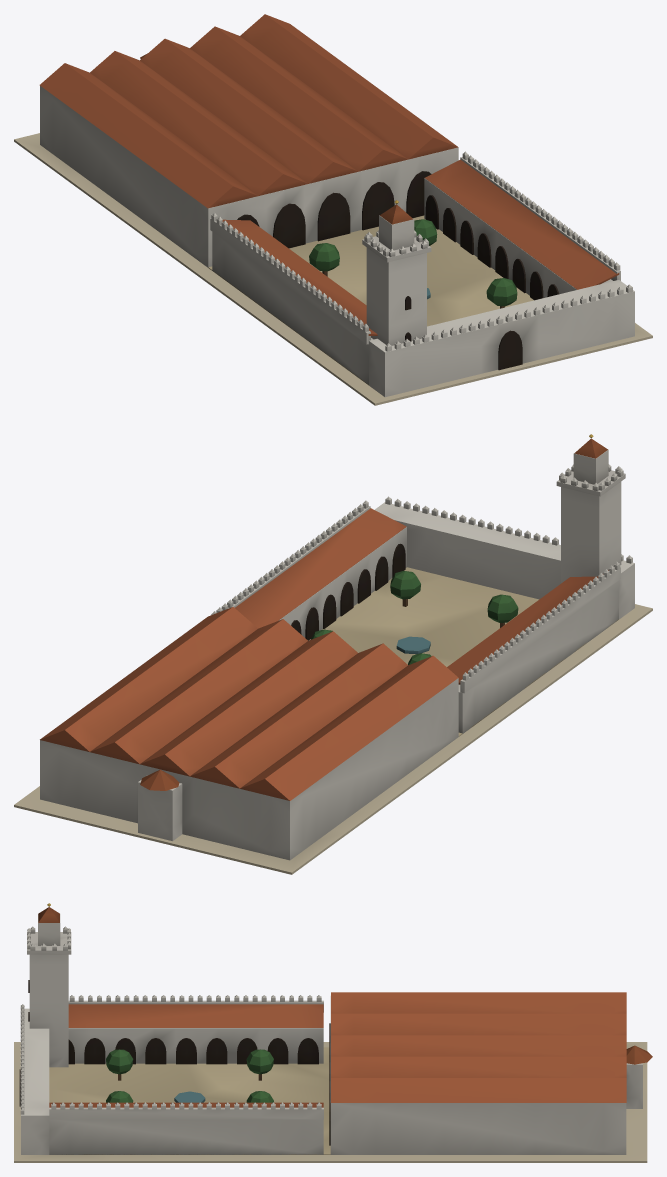
Rendered from se-mosque.glb.
The picture shows the model from 3 angles, top to bottom: view 1: azimuth 30°, elevation 25°; view 2: azimuth 150°, elevation 25°; view 3: azimuth 270°, elevation 25°; orthographic projection. The views are drawn at different scales.
Visible parts, largest first — view 1: p1_hall, p0_ground, p2_minaret; view 2: p1_hall, p0_ground, p2_minaret; view 3: p1_hall, p0_ground, p2_minaret.
Boxes of the visible parts, <box> form: p1_hall: <box>39,14,634,397</box>; p0_ground: <box>14,133,652,405</box>; p2_minaret: <box>362,200,431,345</box>; p1_hall: <box>40,496,634,860</box>; p0_ground: <box>14,604,652,874</box>; p2_minaret: <box>556,434,625,583</box>; p1_hall: <box>19,992,652,1154</box>; p0_ground: <box>14,1042,647,1162</box>; p2_minaret: <box>27,903,71,1067</box>.
Size of the model in its own units: 40 by 24.9 by 90.8.
